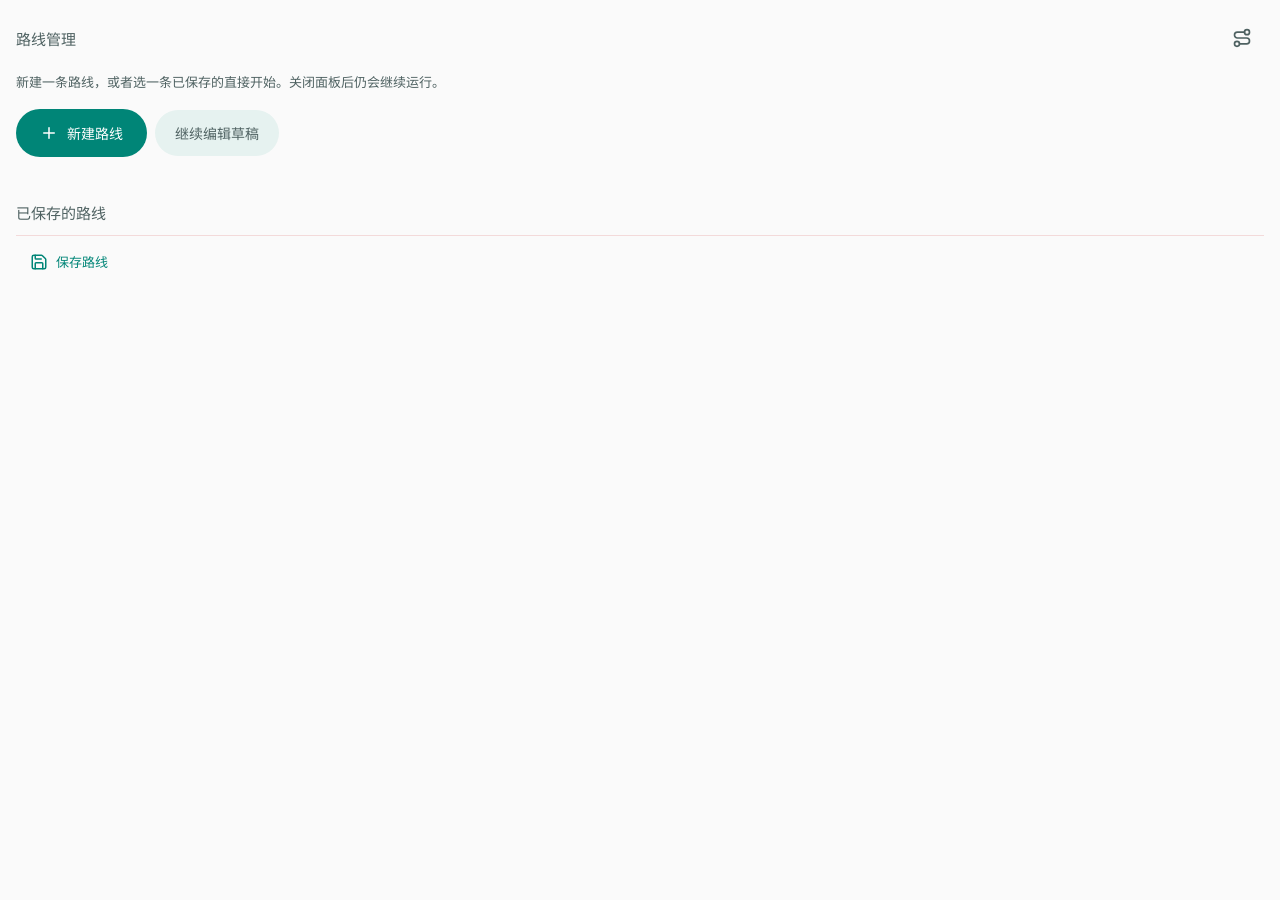
Scenario: starts on the route manager and only opens the point editor when asked
The width and height of the screenshot is (1280, 900).
Check: the field labelled "点 1 纬度" is not shown
Click the button "新建路线". click: [82, 133]
box: [16, 109, 147, 157]
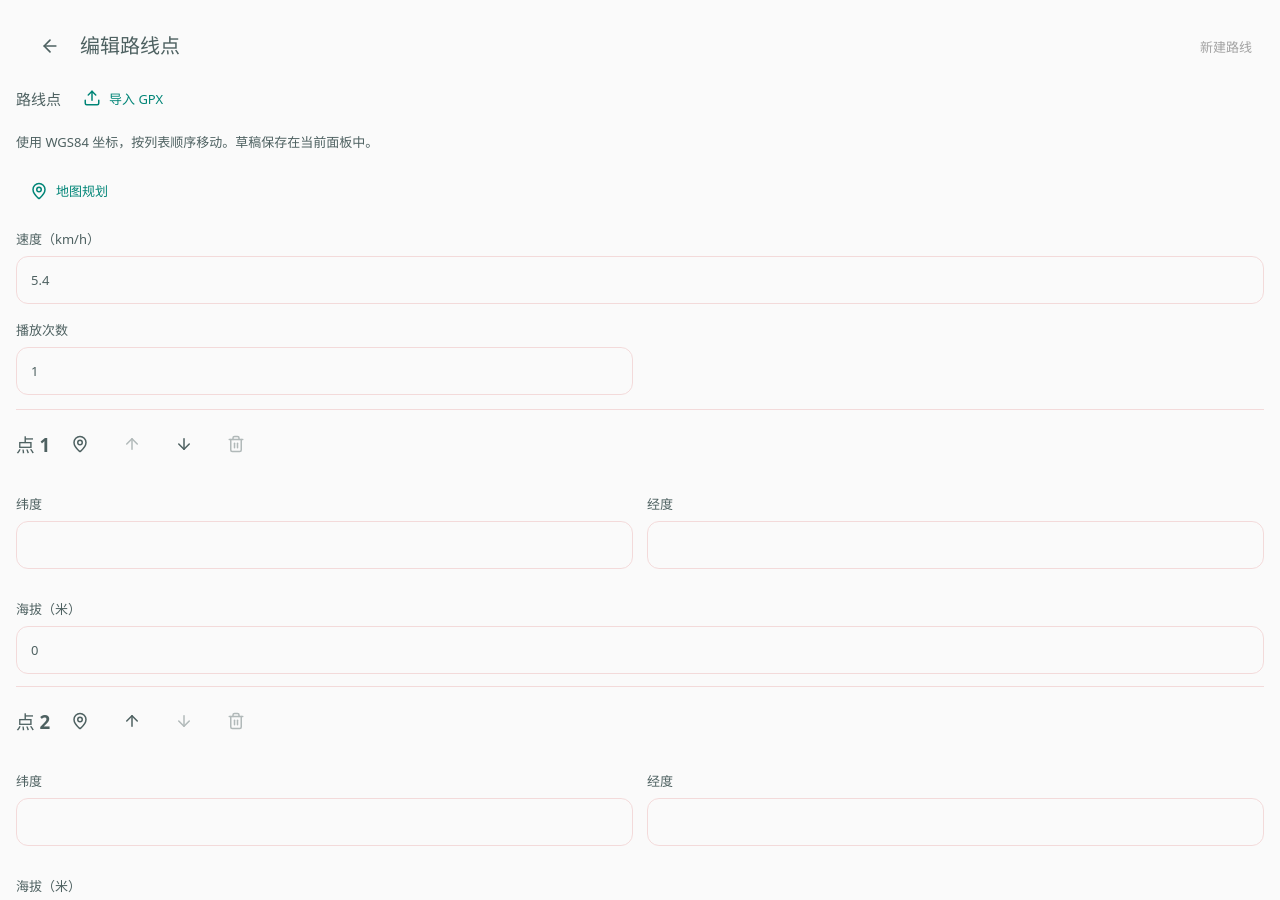
Check: the field named "点 1 纬度" is empty, box [16, 521, 633, 569]
Check: the field labelled "播放次数" holds "1", box [16, 347, 633, 395]
Click the button named "返回路线管理". click: [50, 46]
box: [28, 24, 72, 68]
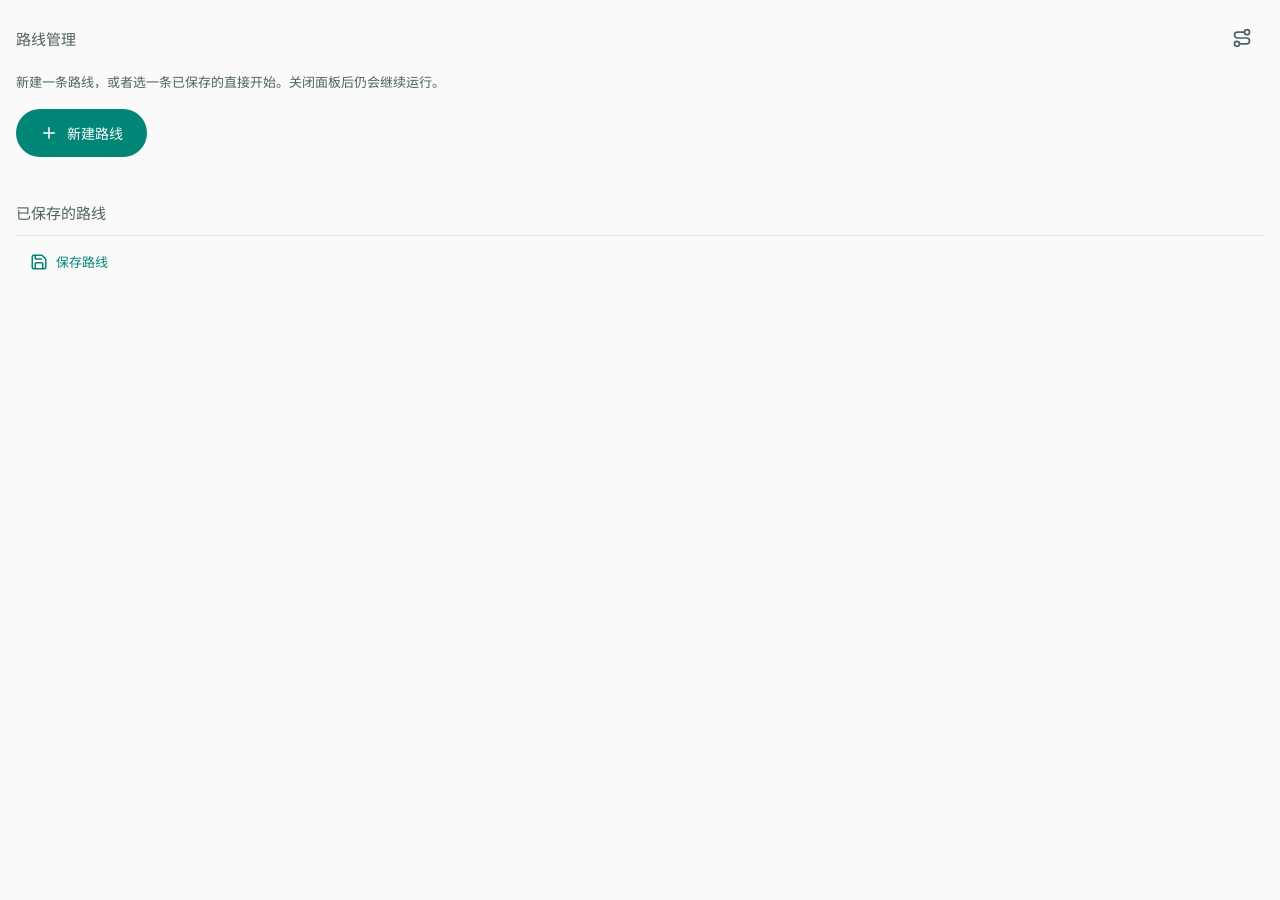
Check: the field labelled "点 1 纬度" is gone
